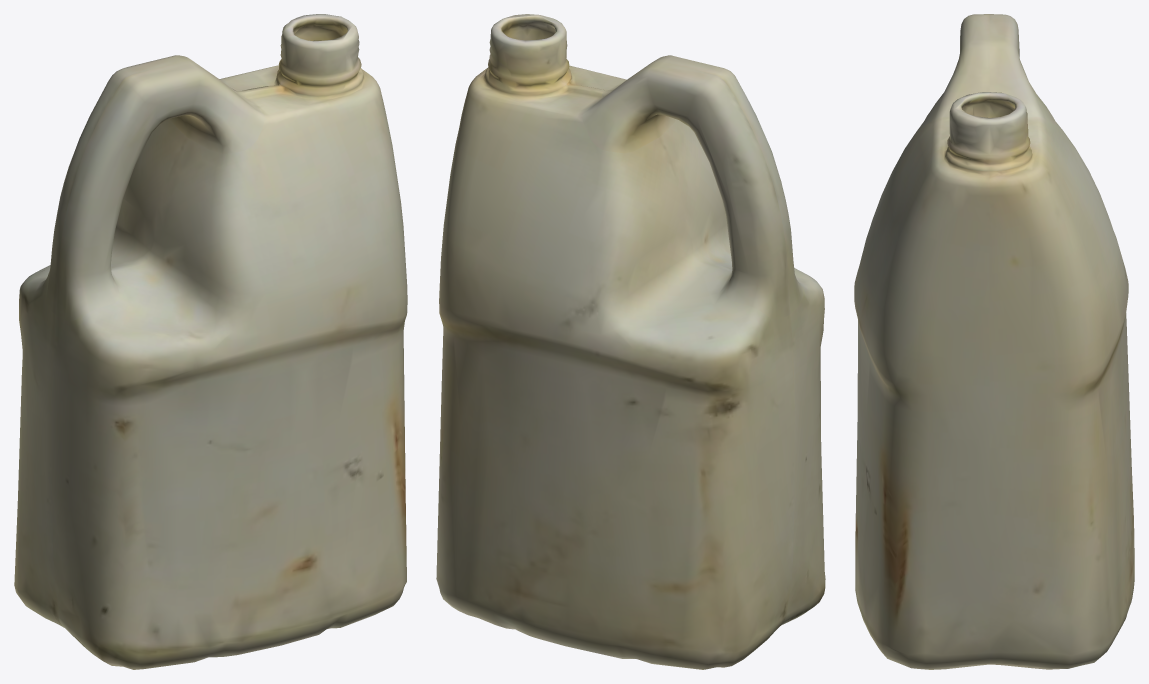
File: plastic_bottle_gallon.glb
3 views of the same model, side by side, from view 1: azimuth 30°, elevation 25°; view 2: azimuth 150°, elevation 25°; view 3: azimuth 270°, elevation 25° (orthographic).
Visible parts, largest first — view 1: plastic_bottle_gallon; view 2: plastic_bottle_gallon; view 3: plastic_bottle_gallon.
Boxes of the visible parts, x1,y1,x2,y2 form: plastic_bottle_gallon: (14,14,407,669); plastic_bottle_gallon: (436,14,825,669); plastic_bottle_gallon: (854,14,1134,669).
Bounding box in the file's own units: 0.1661 × 0.2745 × 0.1262.
1 material, 1 textured.
